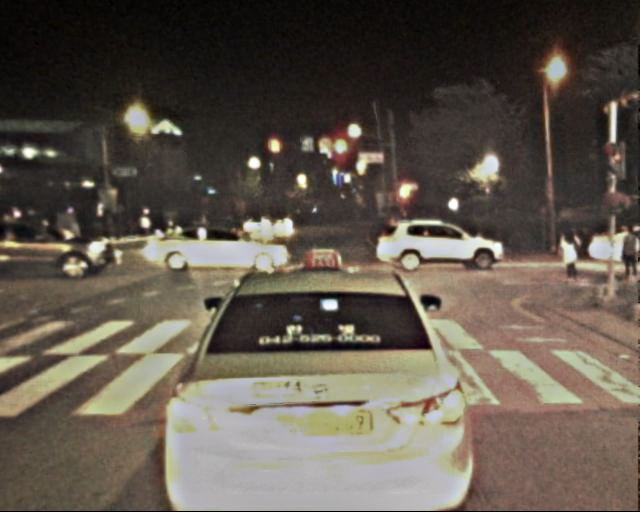person: (562, 227, 586, 282), (617, 227, 639, 285)
